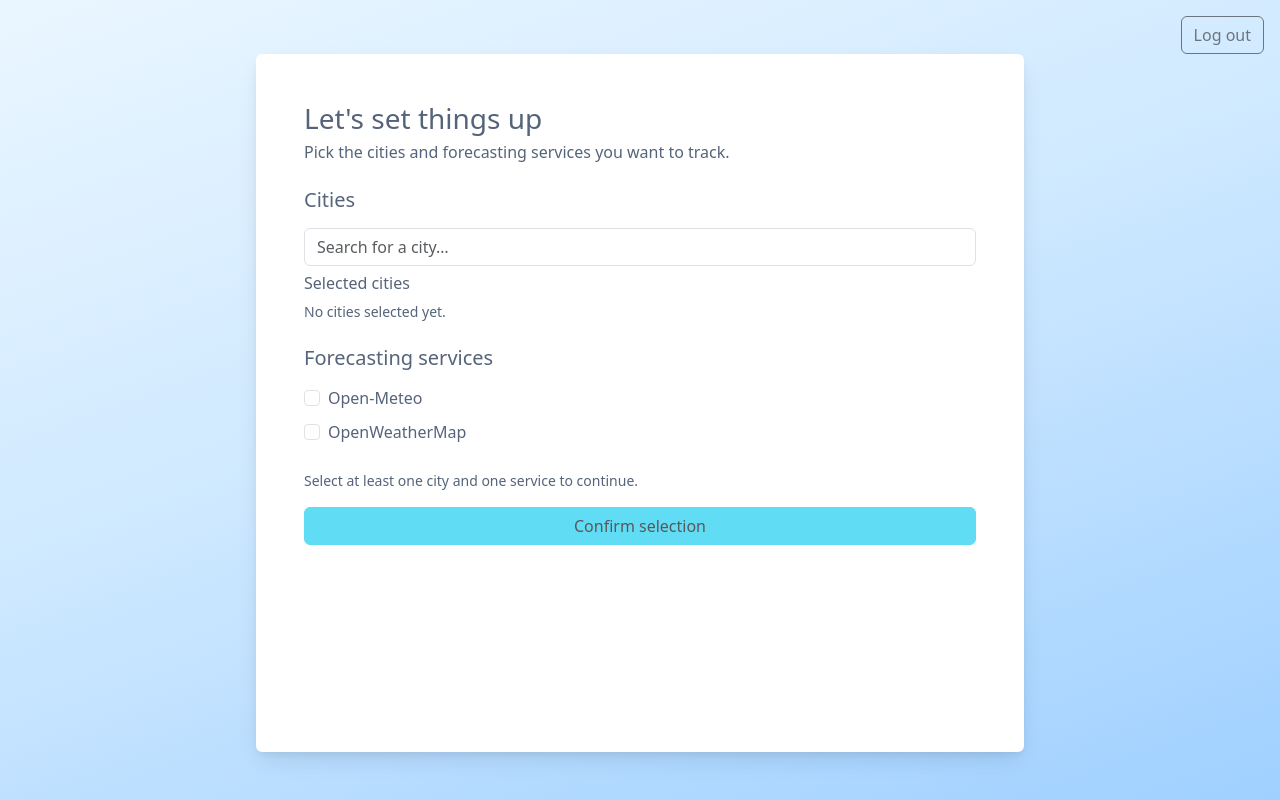
Scenario: SetupPage - City API down with no cities selected (services only) › shows an error and no success notice when saving the services fails
This screenshot has width=1280, height=800.
Expected: the text "Open-Meteo" is shown, [328,386,422,410]
Type "Athens" into the field labelled "Search for a city" at point(640, 247), box [304,228,976,266]
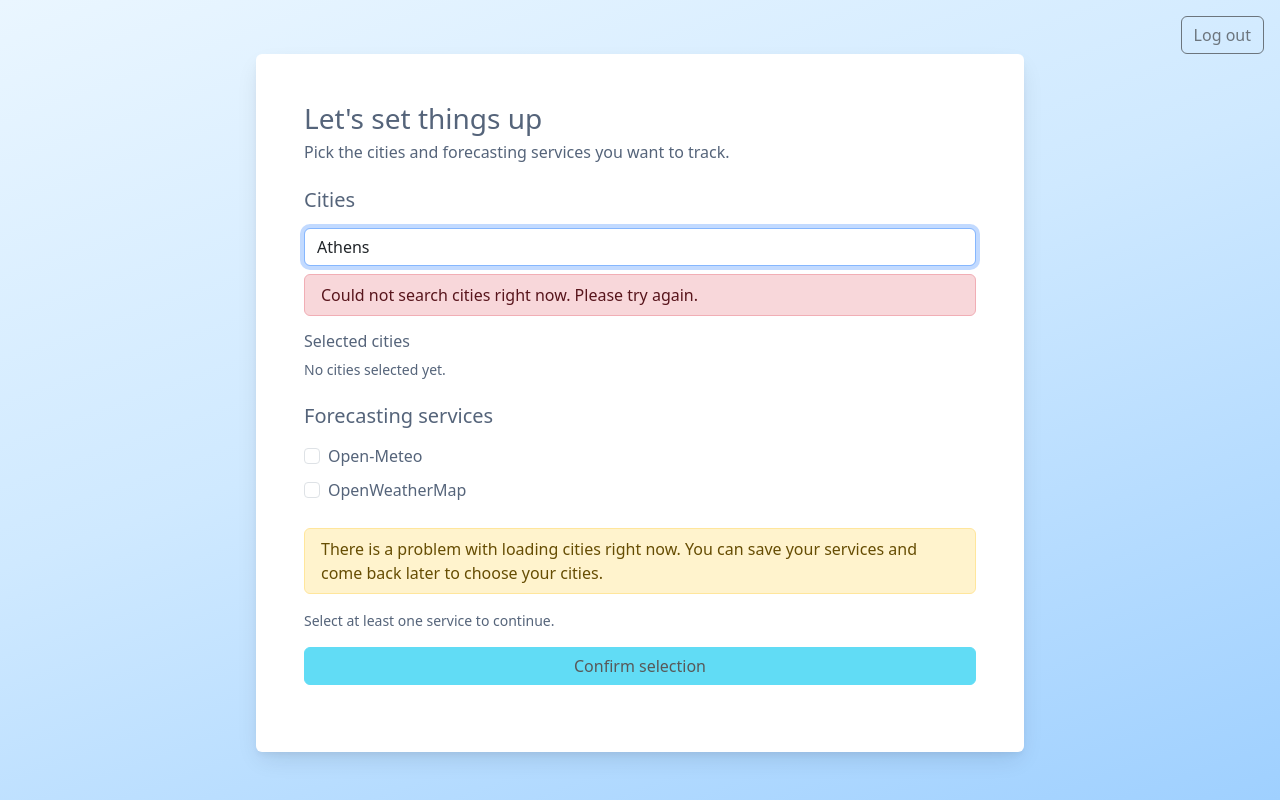
Now the text "Could not search cities right now. Please try again." is shown, box [304,274,976,316]
Click the checkbox labelled "Open-Meteo" at point(312, 456), box [304,448,320,464]
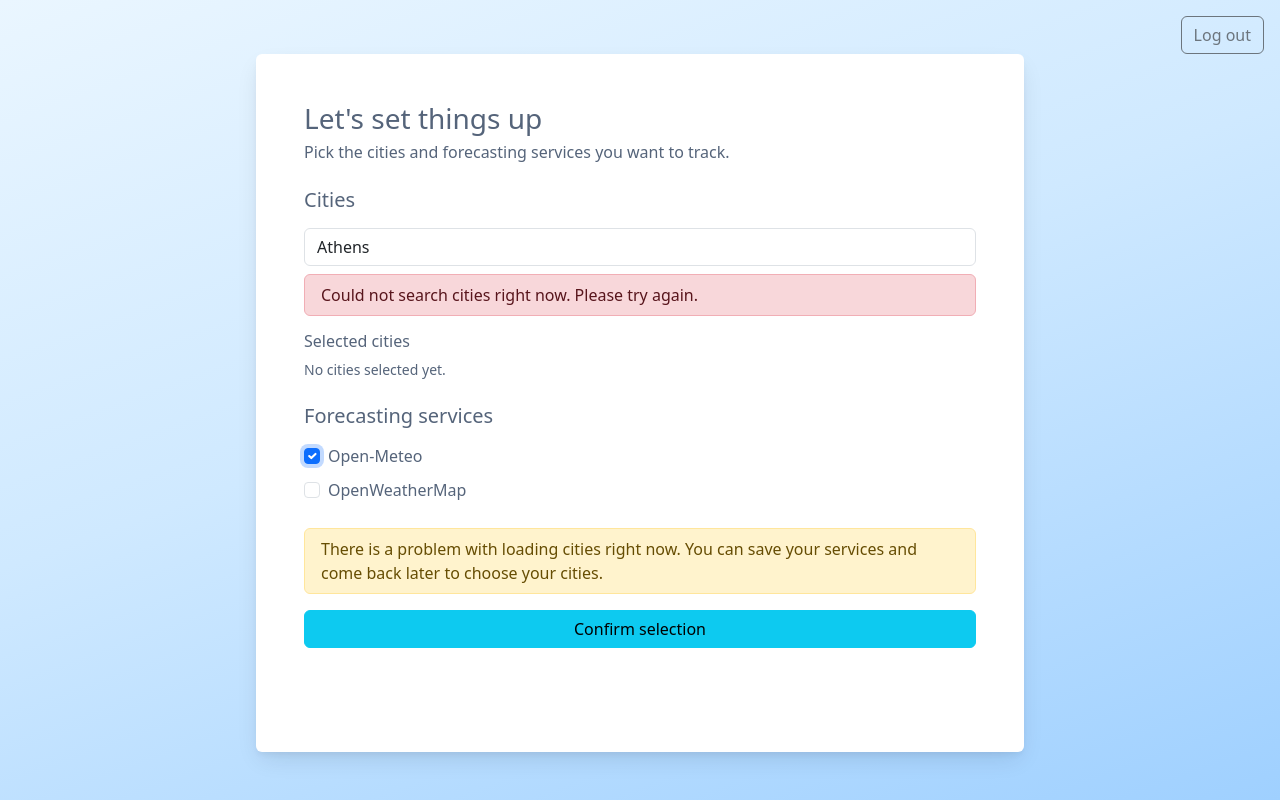
Click the button "Confirm selection" at point(640, 629), box [304,610,976,648]
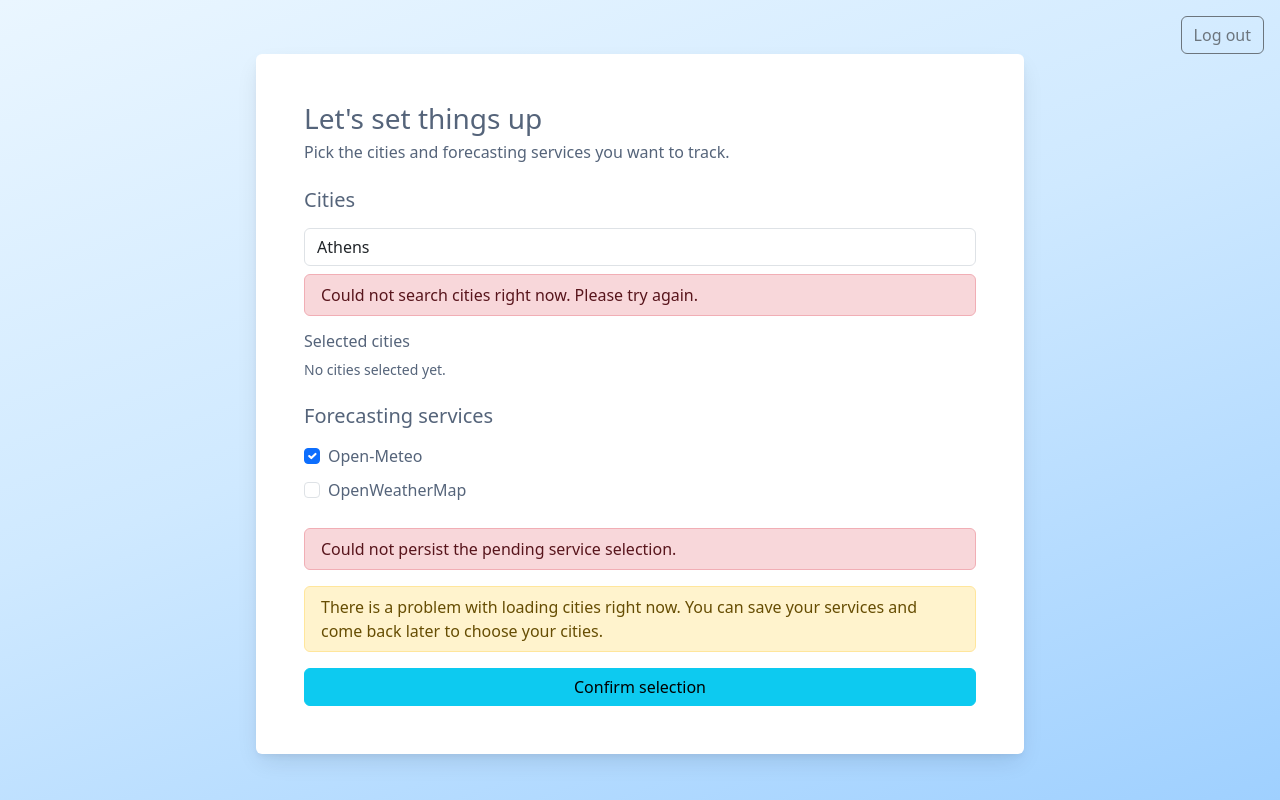
Now the text "Could not persist the pending service selection." is shown, box [304,528,976,570]
